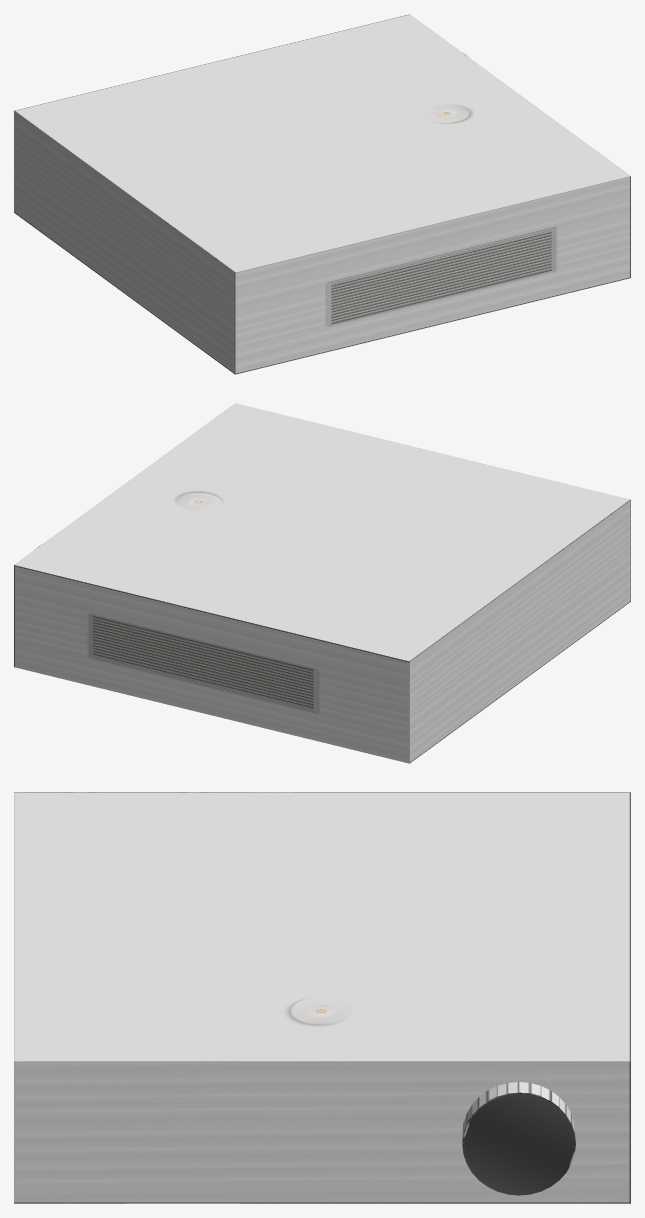
File: projector.fbx
The picture shows the model from 3 angles, top to bottom: view 1: azimuth 30°, elevation 25°; view 2: azimuth 150°, elevation 25°; view 3: azimuth 270°, elevation 25°; orthographic projection. The views are drawn at different scales.
Parts seen in each view (by area): view 1: Cube; view 2: Cube; view 3: Cube.
Part boxes in pixels (box(x1,y1,x2,y2)): Cube: box(14, 14, 630, 374); Cube: box(14, 403, 630, 763); Cube: box(14, 792, 630, 1203).
Bounding box in the file's own units: 0.9359 × 0.2215 × 0.8714.
